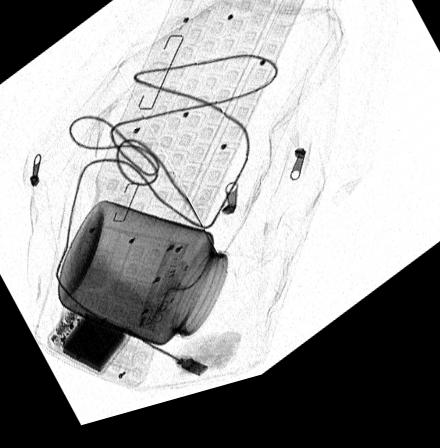Powerbank: (46, 310, 128, 382)
